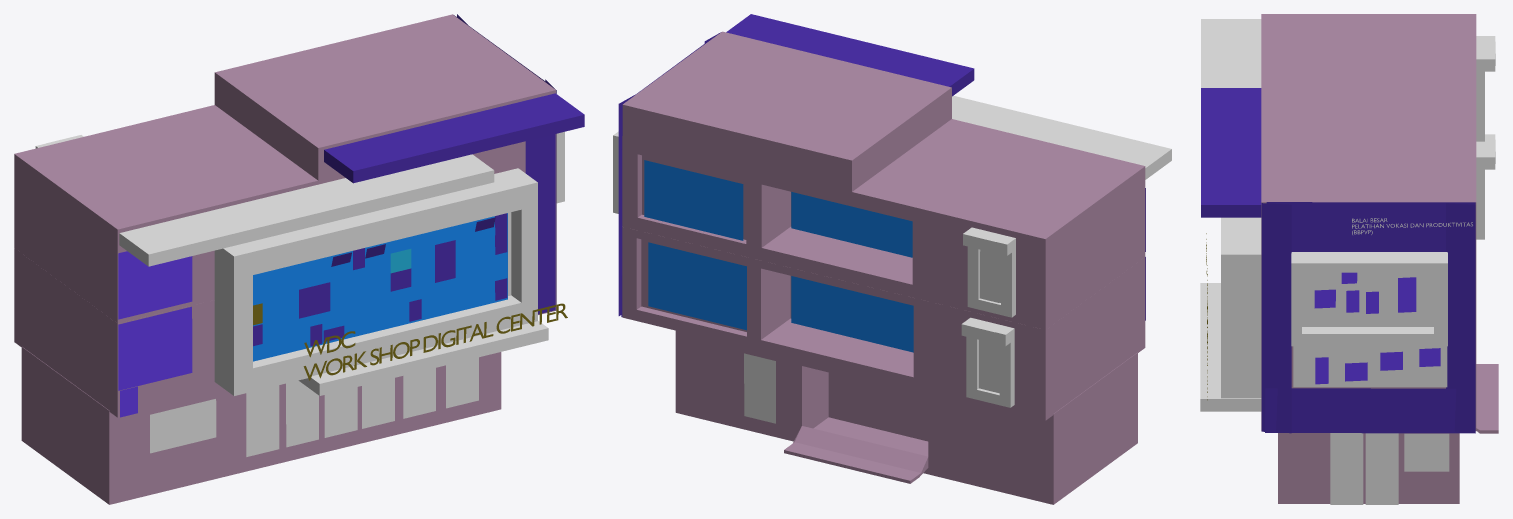
File: GedungWDC.fbx
3 views of the same model, side by side, from view 1: azimuth 30°, elevation 25°; view 2: azimuth 150°, elevation 25°; view 3: azimuth 270°, elevation 25° (orthographic). The views are drawn at different scales.
Visible parts, largest first — view 1: Cube.017, Cube.013, Cube.047, Plane.210, Cube.041, Cube.014, Cube.018, Cube.022, Cube.039, Cube.016, Cube.012, Cube.040 (+22 smaller); view 2: Cube.044, Cube.039, Cube.013, Cube.017, Cube.040, Cube.018, Cube.028, Plane.187, Plane.139, Plane.185, Cube.012, Cube.022 (+10 smaller); view 3: Cube.013, Cube.017, Cube.002, Plane.189, Plane.190, Cube.019, Cube.012, Cube.016, Cube.020, Plane.023, Plane.024, Cube.041 (+25 smaller).
Part boxes in pixels (box(x1,y1,x2,y2)): Cube.017: box(14, 105, 317, 323); Cube.013: box(214, 14, 555, 180); Cube.047: box(214, 182, 537, 395); Plane.210: box(253, 213, 507, 361); Cube.041: box(104, 352, 501, 504); Cube.014: box(119, 154, 493, 254); Cube.018: box(14, 248, 117, 417); Cube.022: box(21, 347, 123, 504); Cube.039: box(14, 155, 117, 321); Cube.016: box(214, 168, 537, 395); Cube.012: box(324, 93, 584, 170); Cube.040: box(14, 248, 117, 410); Cube.044: box(675, 330, 1113, 504); Cube.039: box(622, 136, 1144, 329); Cube.013: box(623, 31, 951, 191); Cube.017: box(637, 119, 1145, 329); Cube.040: box(622, 227, 1136, 420); Cube.018: box(636, 238, 1145, 420); Cube.028: box(622, 105, 851, 191); Plane.187: box(648, 242, 746, 330); Plane.139: box(791, 276, 913, 352); Plane.185: box(644, 160, 743, 240); Cube.012: box(726, 14, 973, 86); Cube.022: box(1053, 352, 1137, 467); Cube.013: box(1261, 81, 1476, 235); Cube.017: box(1261, 14, 1476, 321); Cube.002: box(1291, 263, 1447, 346); Plane.189: box(1265, 388, 1468, 433); Plane.190: box(1266, 202, 1475, 251); Cube.019: box(1278, 364, 1498, 503); Cube.012: box(1201, 88, 1261, 217); Cube.016: box(1221, 217, 1261, 398); Cube.020: box(1291, 252, 1447, 346); Plane.023: box(1261, 203, 1291, 433); Plane.024: box(1446, 203, 1475, 433); Cube.041: box(1278, 429, 1498, 503).
Bounding box in the file's own units: 609 × 396 × 328.
